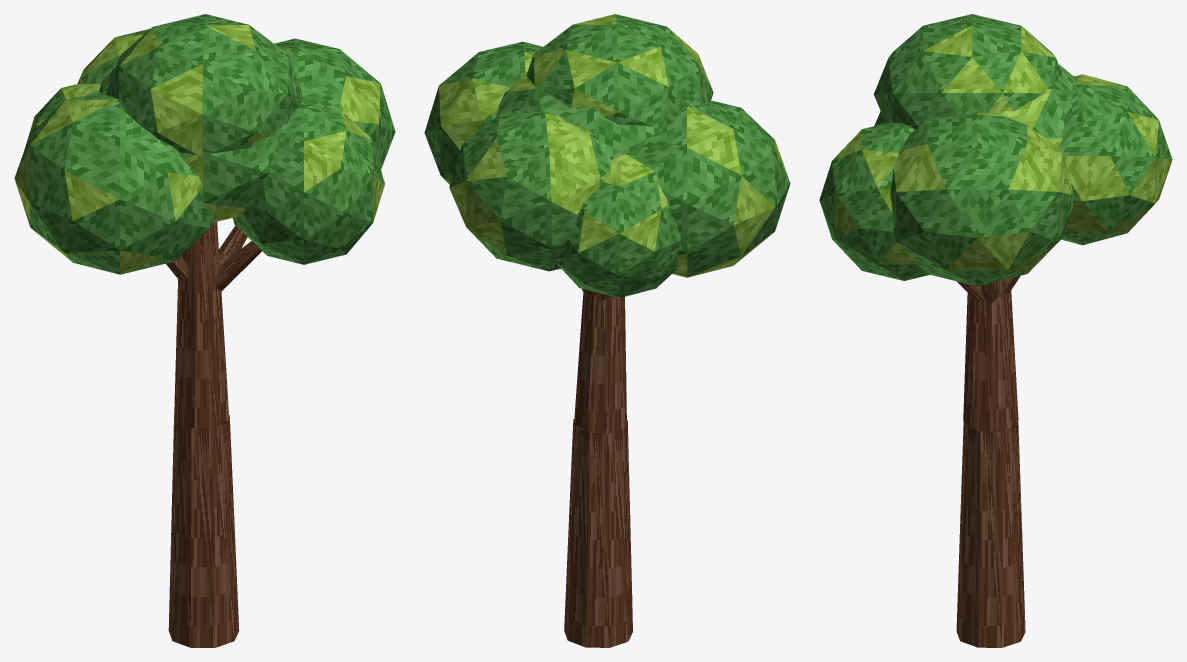
The model's file is 01_roble_verde.glb.
3 views of the same model, side by side, from view 1: azimuth 30°, elevation 25°; view 2: azimuth 150°, elevation 25°; view 3: azimuth 270°, elevation 25° (orthographic). The views are drawn at different scales.
Visible parts, largest first — view 1: world; view 2: world; view 3: world.
Part boxes in pixels (x1,y1,x2,y2): world: (14, 14, 395, 647); world: (424, 14, 790, 647); world: (819, 14, 1172, 647).
Size of the model in its own units: 26.56 by 45 by 23.81.
Materials: 1 (1 with a texture image).
